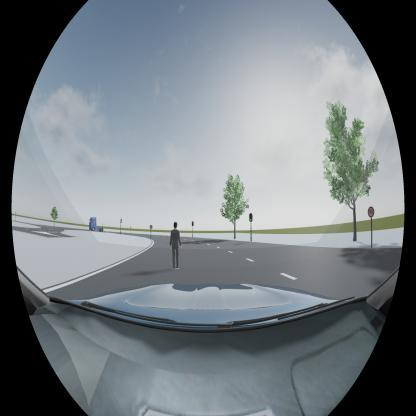Green Light: (249, 213, 252, 222)
Red Light: (192, 221, 194, 226)
